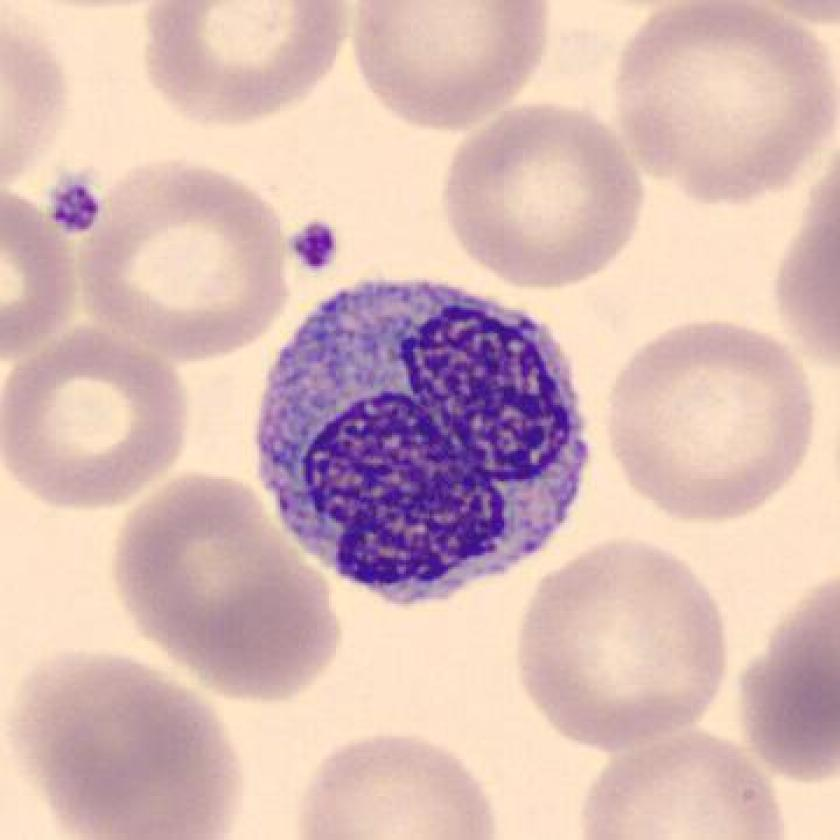monocyte: (242, 265, 599, 623)
